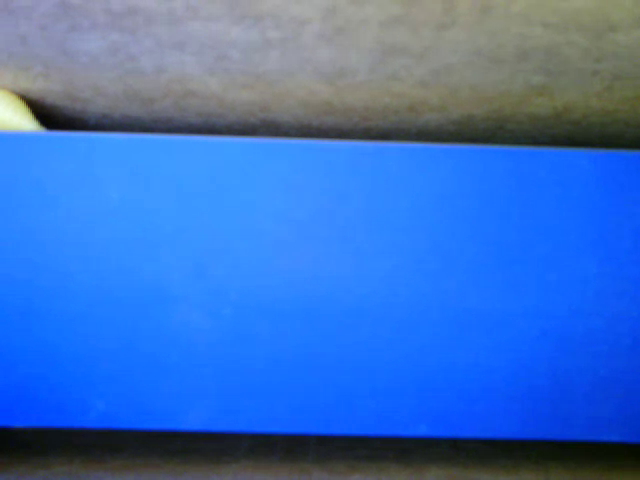shell: (1, 87, 54, 131)
